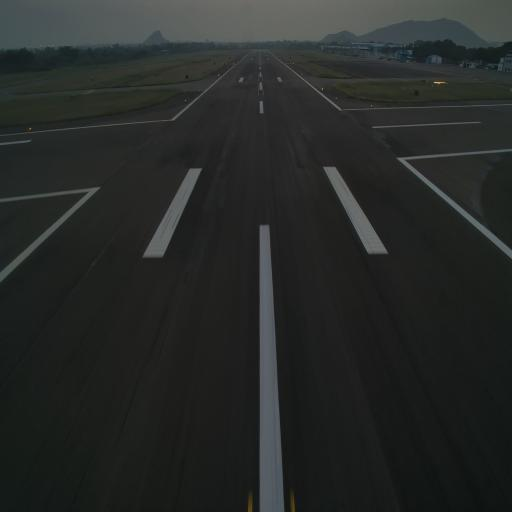on: (26, 124, 32, 133), (370, 101, 374, 108)
